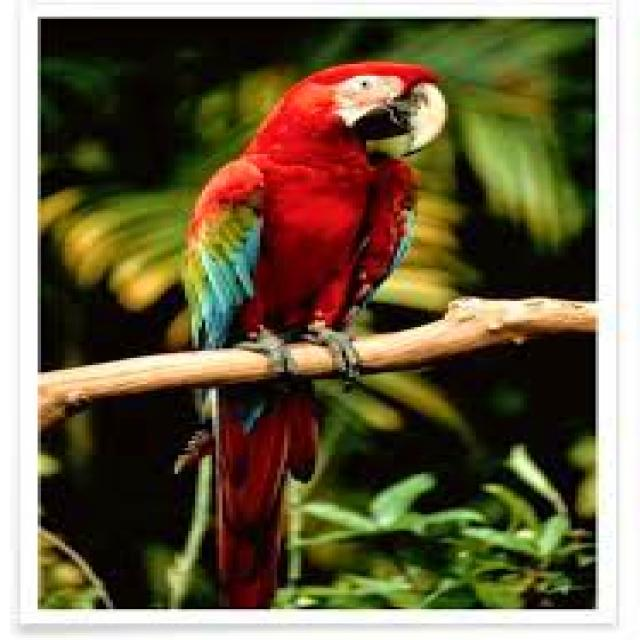parrot: (188, 62, 445, 346)
